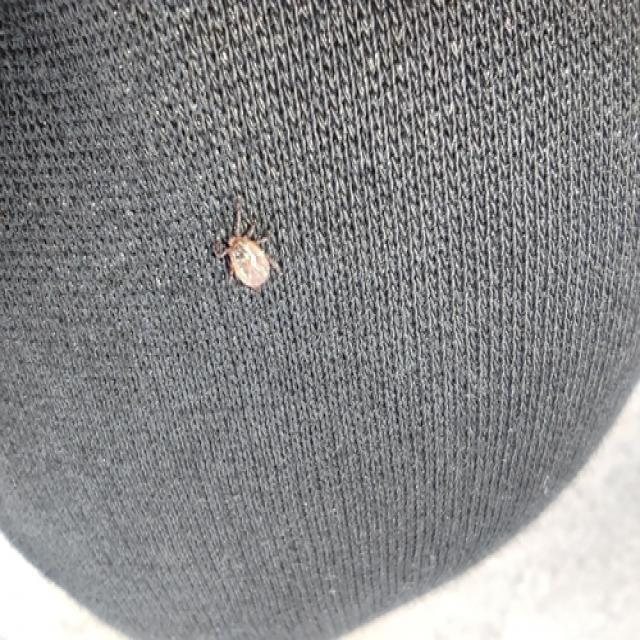Dermacentor Reticulatus-F: (209, 203, 276, 290)
